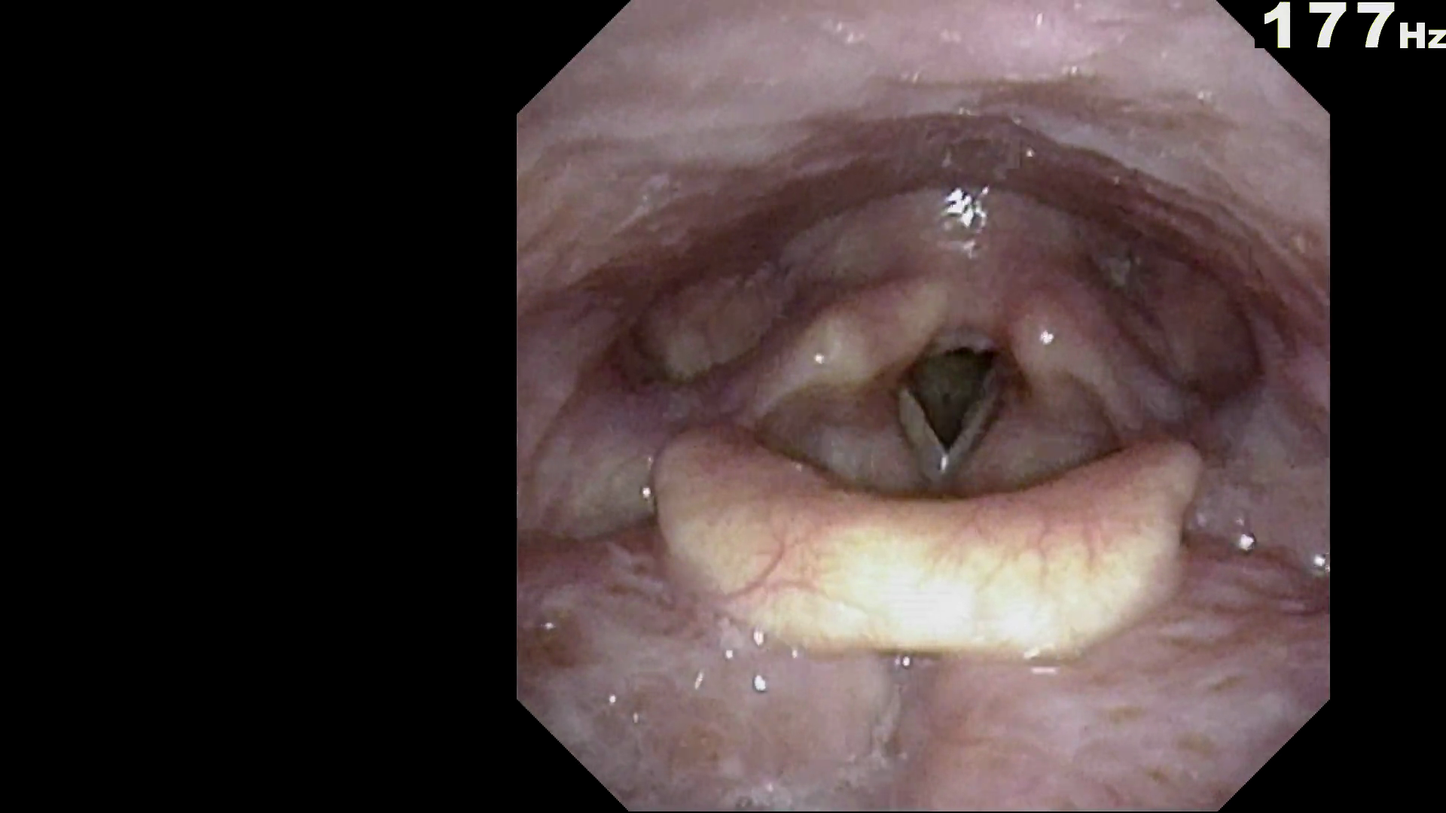epiglottis: (623, 400, 1221, 679)
trachea: (862, 264, 1048, 498)
